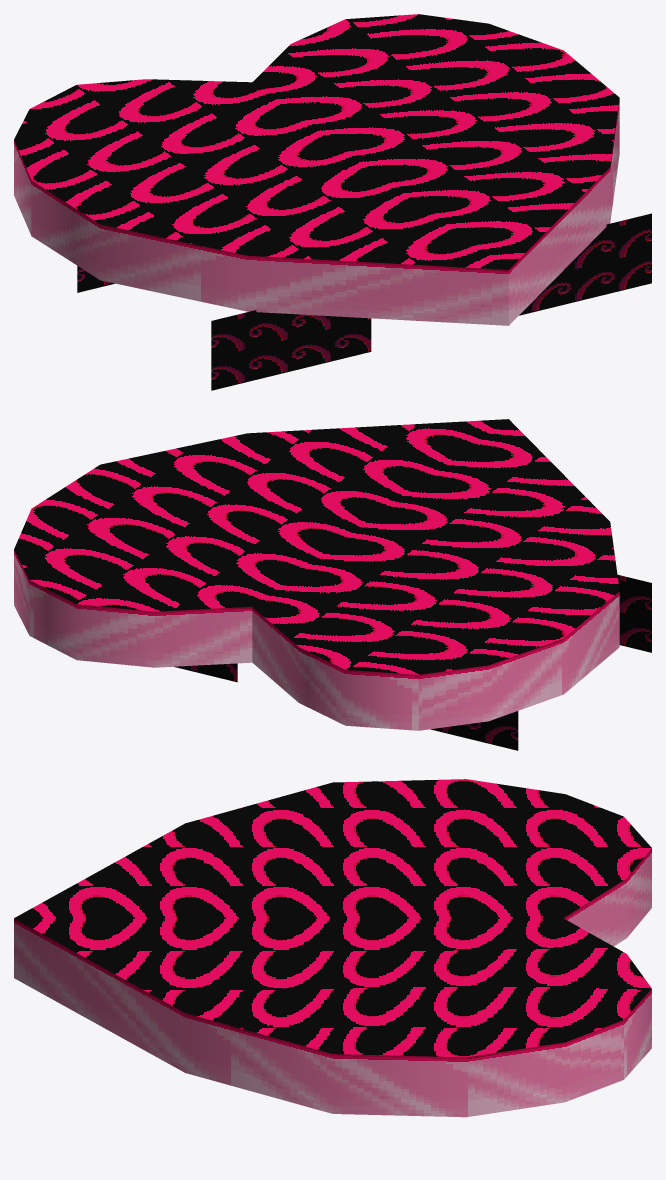
Rendered from 3824kg3_ser05.gltf.
3 renders of one model, top to bottom at view 1: azimuth 30°, elevation 25°; view 2: azimuth 150°, elevation 25°; view 3: azimuth 270°, elevation 25°, orthographic. The views are drawn at different scales.
Parts seen in each view (by area): view 1: 3824kg3_ser05; view 2: 3824kg3_ser05; view 3: 3824kg3_ser05.
Part boxes in pixels (x1=…): 3824kg3_ser05: x1=14, y1=14, x2=651, y2=390; 3824kg3_ser05: x1=14, y1=419, x2=651, y2=750; 3824kg3_ser05: x1=14, y1=779, x2=651, y2=1117.
Bounding box in the file's own units: 1.98 × 0.4399 × 1.92.
3 materials, 3 textured.
